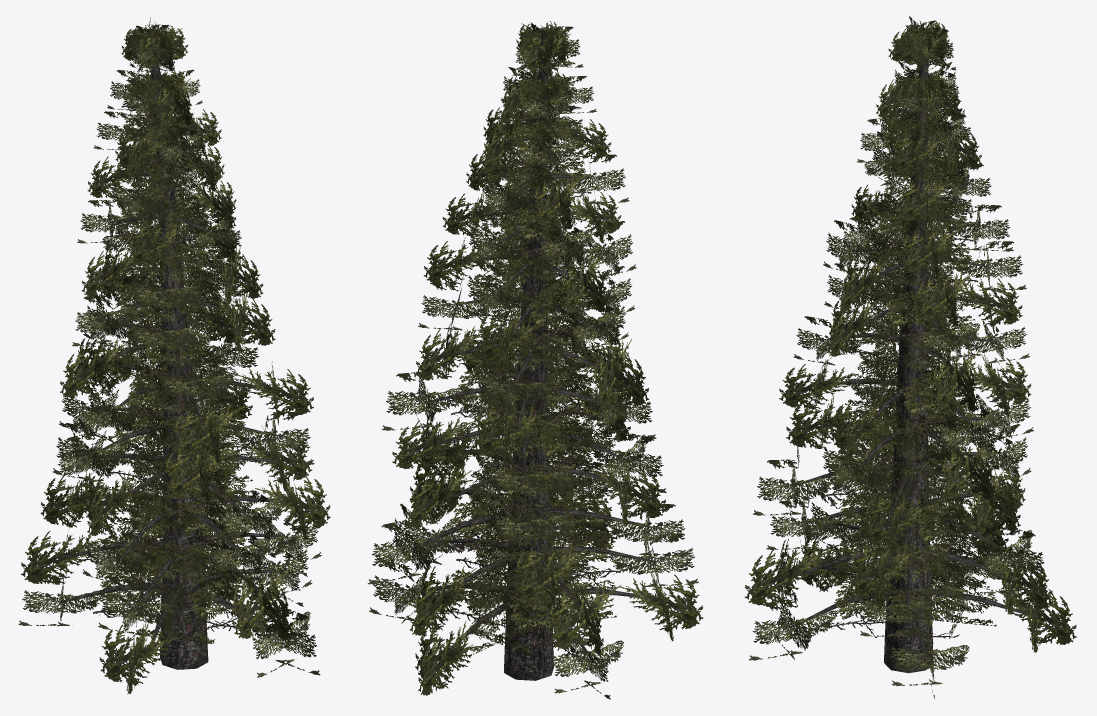
File: conifer_v5_mature_01_lod1.glb
3 views of the same model, side by side, from view 1: azimuth 30°, elevation 25°; view 2: azimuth 150°, elevation 25°; view 3: azimuth 270°, elevation 25° (orthographic). The views are drawn at different scales.
Parts seen in each view (by area): view 1: foliage_cards, wood_geometry; view 2: foliage_cards, wood_geometry; view 3: foliage_cards, wood_geometry.
Boxes of the visible parts, x1=… form: foliage_cards: x1=18, y1=17, x2=330, y2=693; wood_geometry: x1=59, y1=29, x2=283, y2=669; foliage_cards: x1=367, y1=21, x2=703, y2=699; wood_geometry: x1=410, y1=32, x2=657, y2=680; foliage_cards: x1=744, y1=16, x2=1076, y2=699; wood_geometry: x1=788, y1=27, x2=1038, y2=673.
Size of the model in its own units: 4.98 by 10.85 by 5.41.
Materials: 2 (2 with a texture image).
